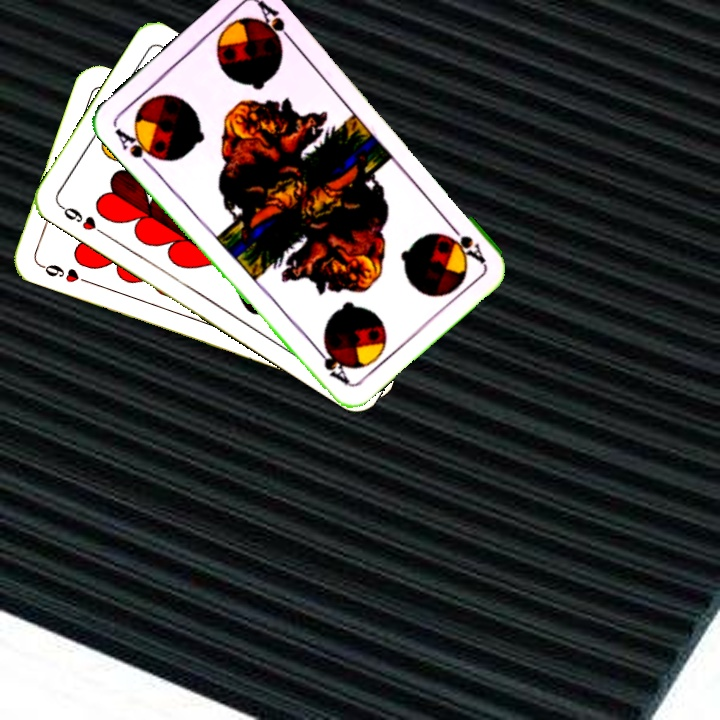H9: (55, 200, 108, 238), (36, 260, 94, 287)
SA: (110, 124, 162, 171), (440, 217, 488, 266)
